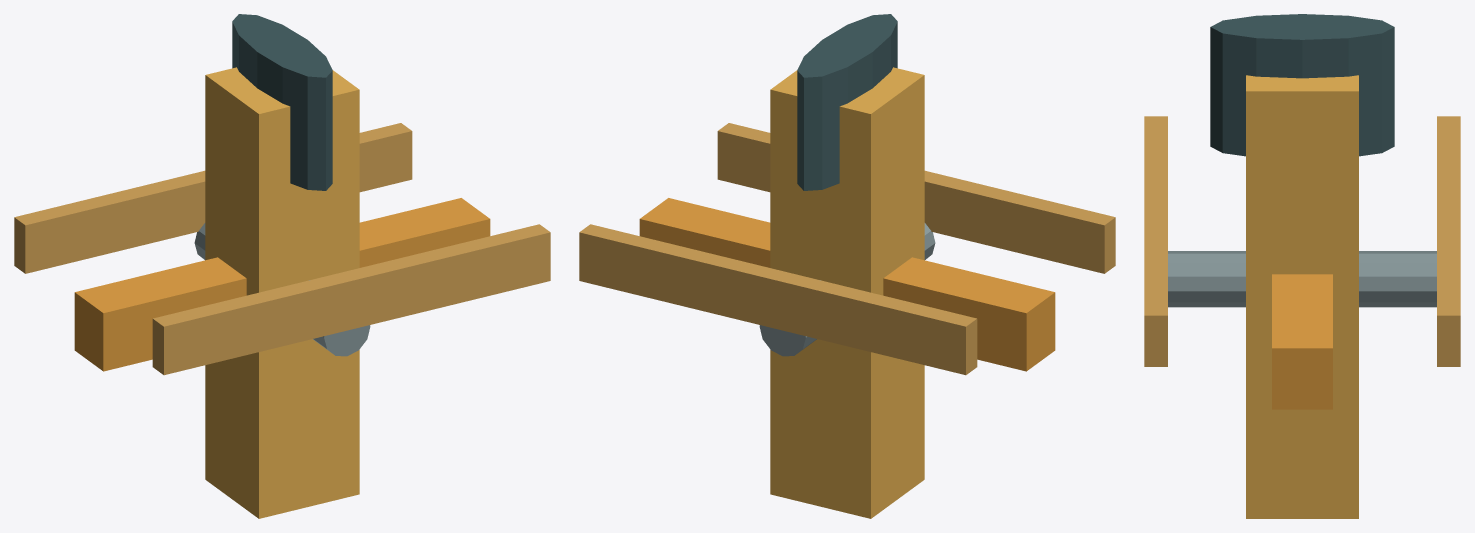
File: FactoryRecoveryRig.glb
The picture shows the model from 3 angles, left to right: view 1: azimuth 30°, elevation 25°; view 2: azimuth 150°, elevation 25°; view 3: azimuth 270°, elevation 25°; orthographic projection. The views are drawn at different scales.
Parts seen in each view (by area): view 1: Box.102, Box.105 (×2), Box.101, Cylinder.030, Cylinder.034; view 2: Box.102, Box.105 (×2), Box.101, Cylinder.030, Cylinder.034; view 3: Box.102, Cylinder.030, Box.105 (×2), Cylinder.034, Box.101.
Boxes of the visible parts, x1,y1,x2,y2 form: Box.102: [205, 67, 359, 518]; Box.105 (×2): [14, 123, 550, 375]; Box.101: [74, 198, 490, 371]; Cylinder.030: [232, 14, 332, 190]; Cylinder.034: [194, 223, 370, 356]; Box.102: [770, 67, 924, 518]; Box.105 (×2): [579, 123, 1115, 375]; Box.101: [639, 198, 1055, 371]; Cylinder.030: [797, 14, 897, 190]; Cylinder.034: [759, 223, 935, 356]; Box.102: [1246, 75, 1358, 518]; Cylinder.030: [1210, 14, 1394, 156]; Box.105 (×2): [1144, 116, 1460, 366]; Cylinder.034: [1168, 251, 1436, 307]; Box.101: [1272, 274, 1332, 409].
Bounding box in the file's own units: 1 × 1.09 × 0.67.
